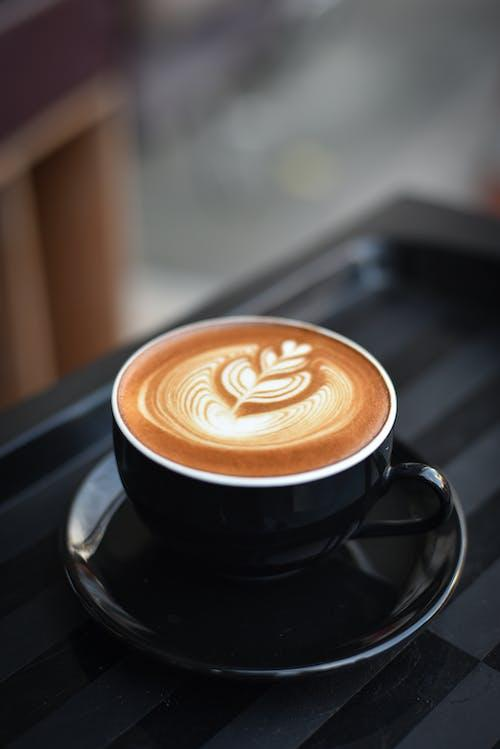Mug: (60, 250, 485, 710)
